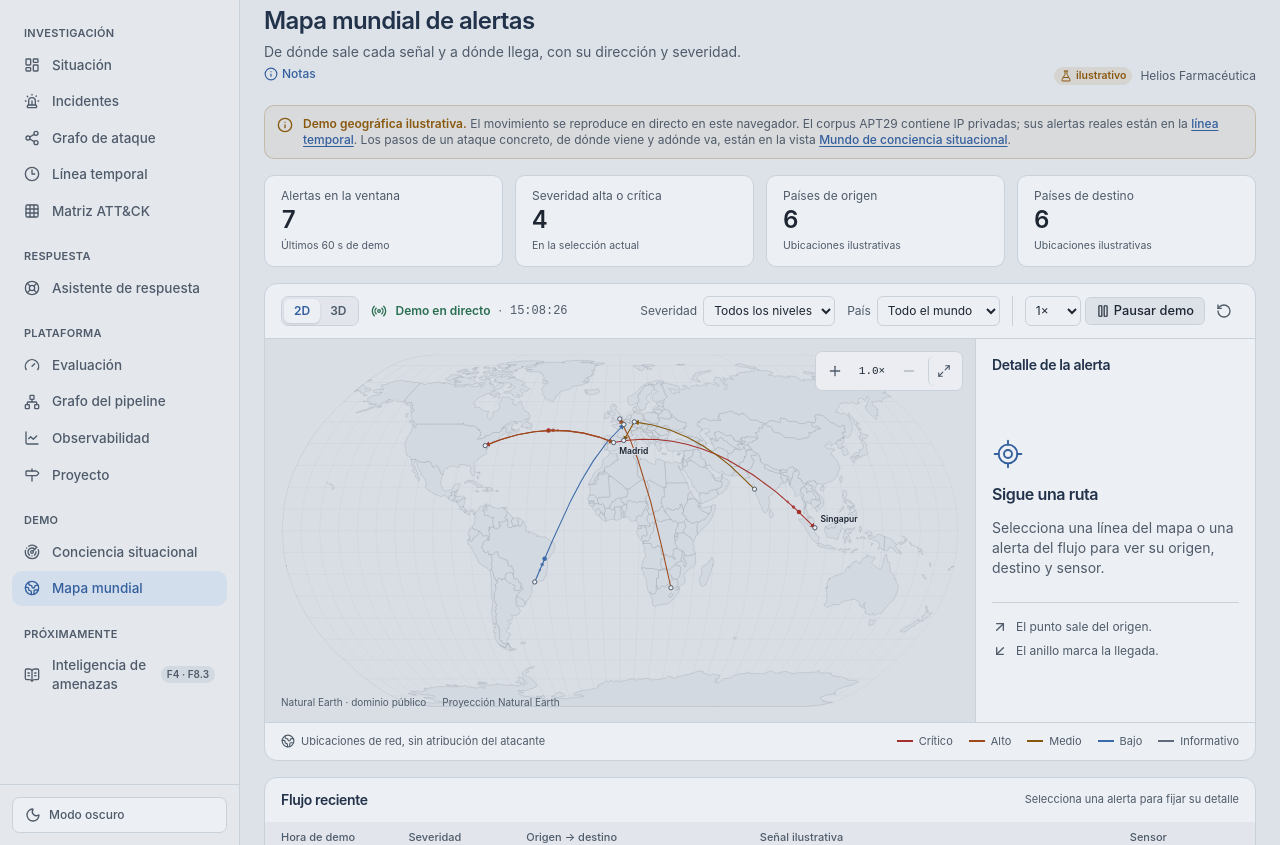
Test: mapa mundial del boceto › abre el detalle de una ruta, filtra y ofrece un estado vacío
Click the button "Pausar demo" at (1145,311), box [1085, 297, 1205, 325]
(page scrolled)
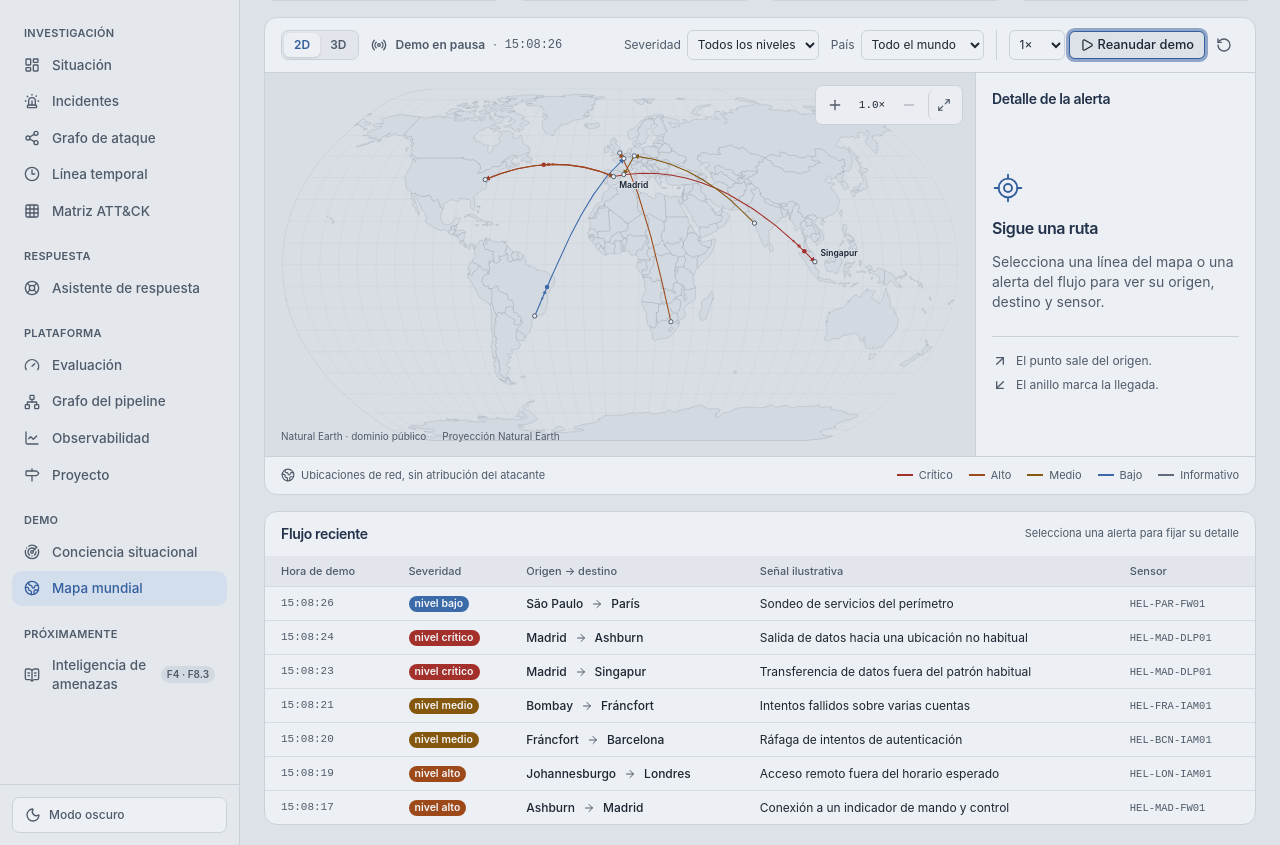
Click the button "São Paulo París" at (583,604), box [526, 596, 640, 612]
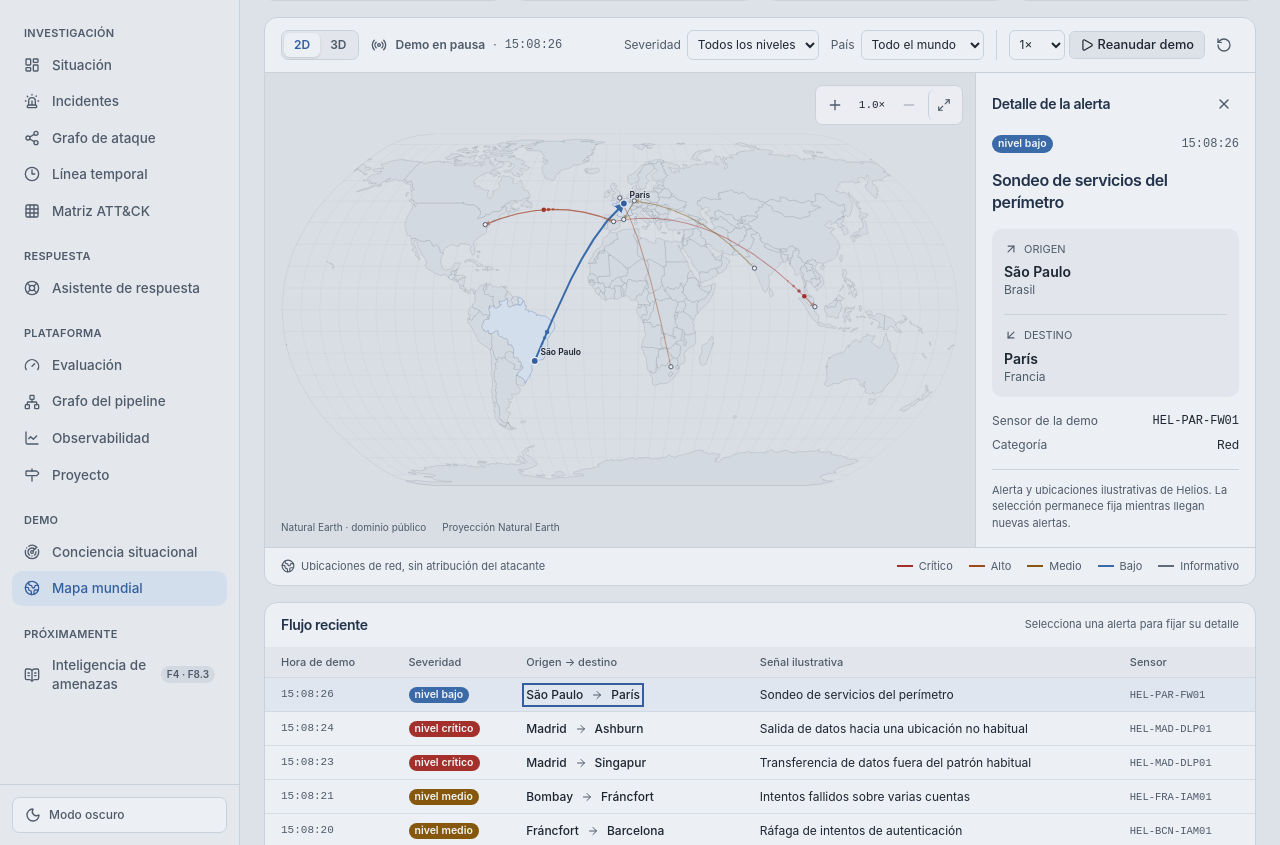
expect the text "ORIGEN" is shown: met, box [1004, 242, 1066, 256]
expect the text "Sensor de la demo" is shown: met, box [992, 412, 1098, 428]
Select "Crítico" in the dropdown named "Filtrar por severidad" at (753,45), box [687, 30, 819, 60]
(page scrolled)
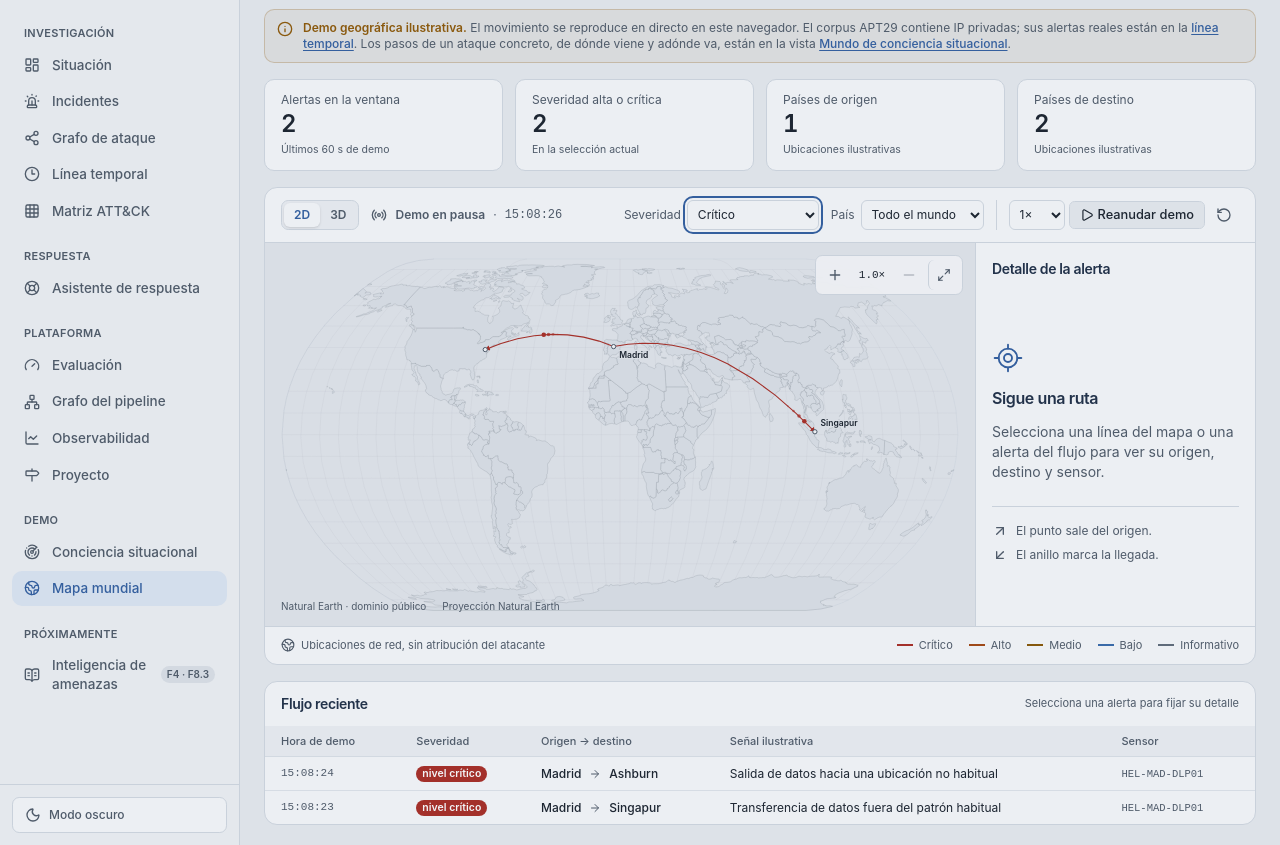
expect the text "nivel crítico" next to "15:08:24" is shown: met, box [416, 766, 487, 782]
expect the text "nivel bajo" is gone: met
Select "Canadá" in the dropdown named "Filtrar por país" at (922,215), box [860, 200, 984, 230]
(page scrolled)
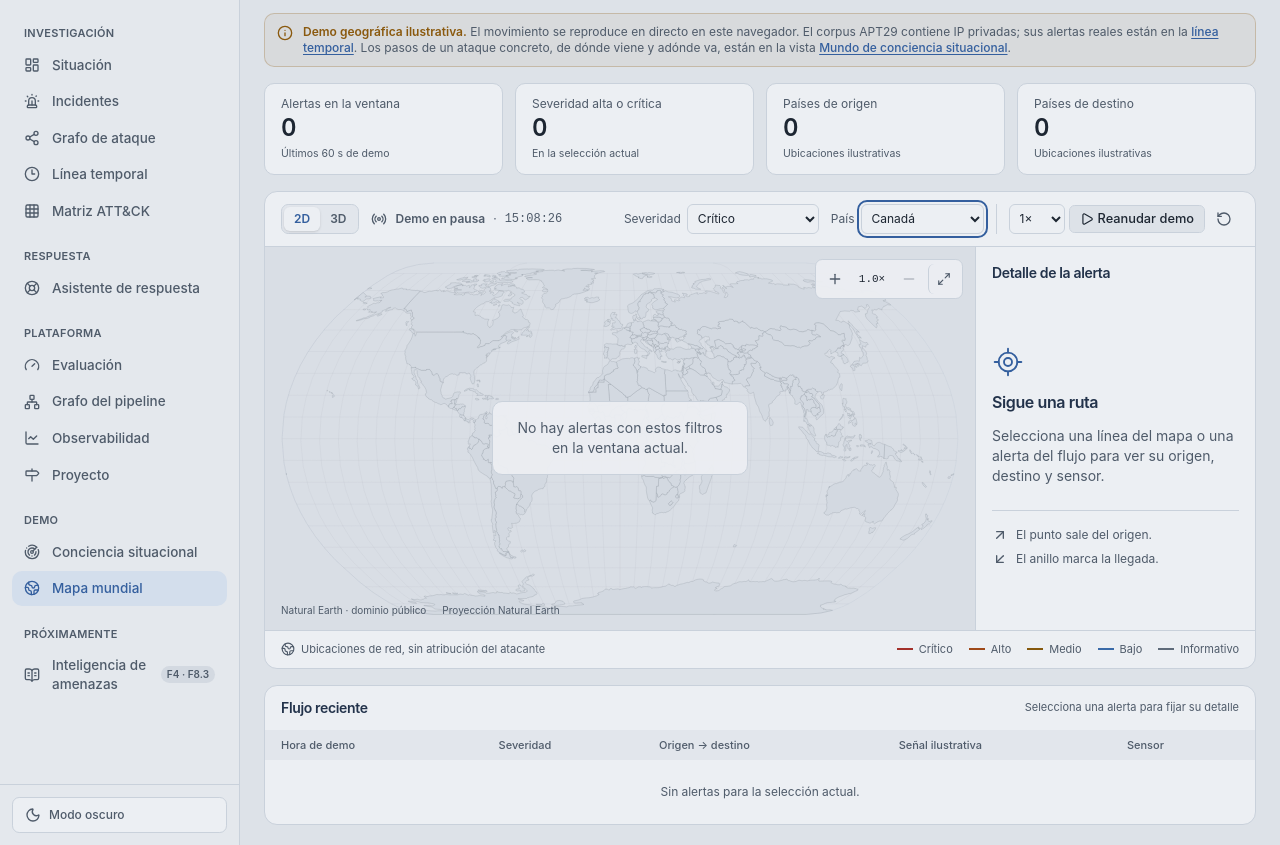
expect the text "Sin alertas para la selección actual." is shown: met, box [265, 760, 1255, 824]
expect the text "No hay alertas con estos filtros en la ventana actual." is shown: met, box [492, 401, 748, 475]
